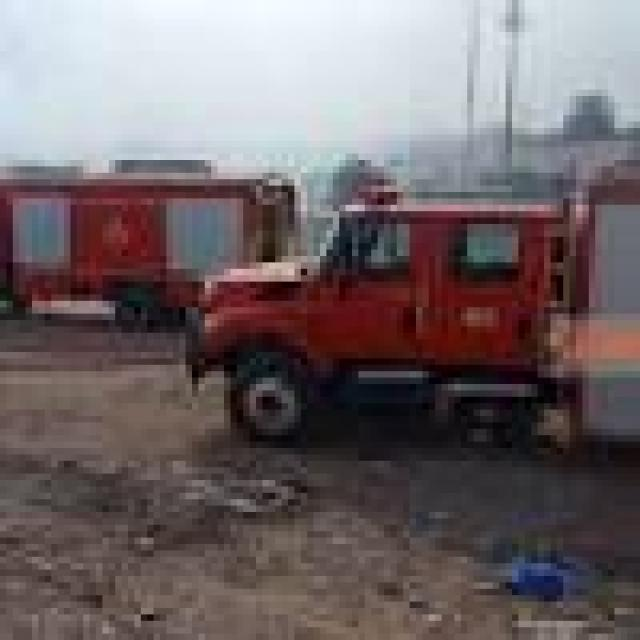pompier: (179, 160, 640, 442)
